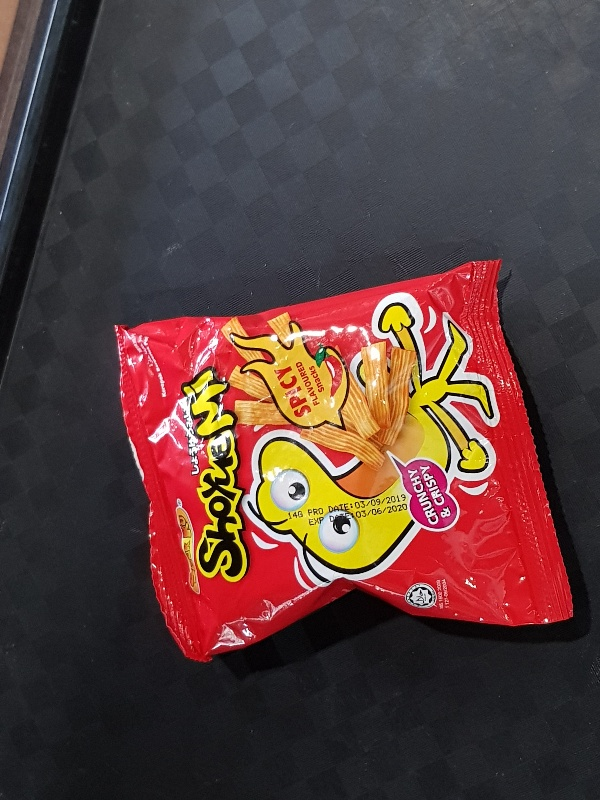ShoyueMi Spicy Flavoured Snacks: (111, 259, 575, 666)
